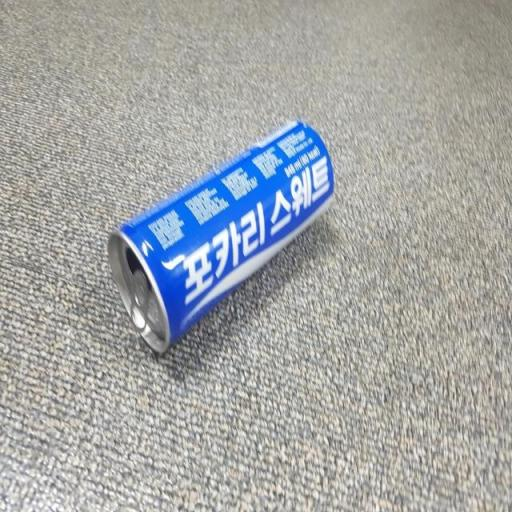metal: (98, 104, 347, 366)
